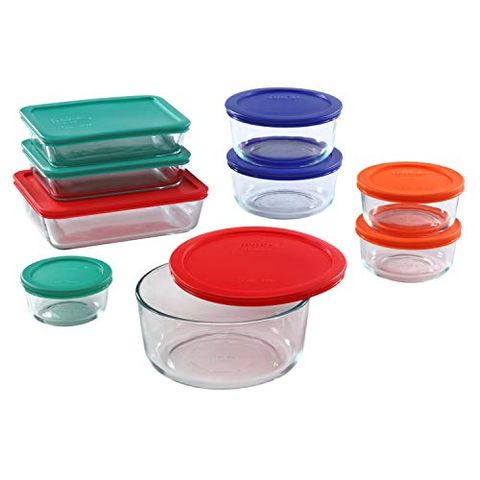PlasticBox: (351, 158, 468, 285), (19, 254, 116, 329)
